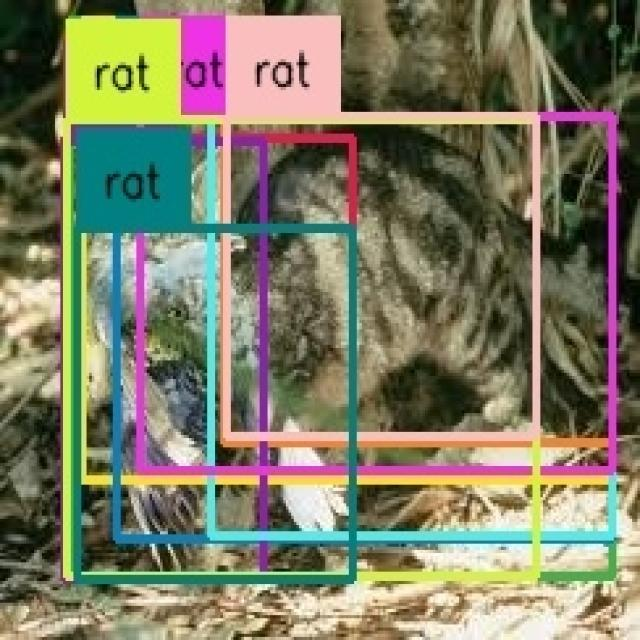rat: (68, 116, 614, 576), (67, 120, 536, 576), (117, 117, 612, 539), (81, 118, 614, 479), (211, 116, 613, 536), (140, 117, 612, 470), (223, 116, 611, 442), (66, 140, 352, 578), (227, 116, 536, 436), (77, 230, 353, 578), (64, 140, 264, 578)
